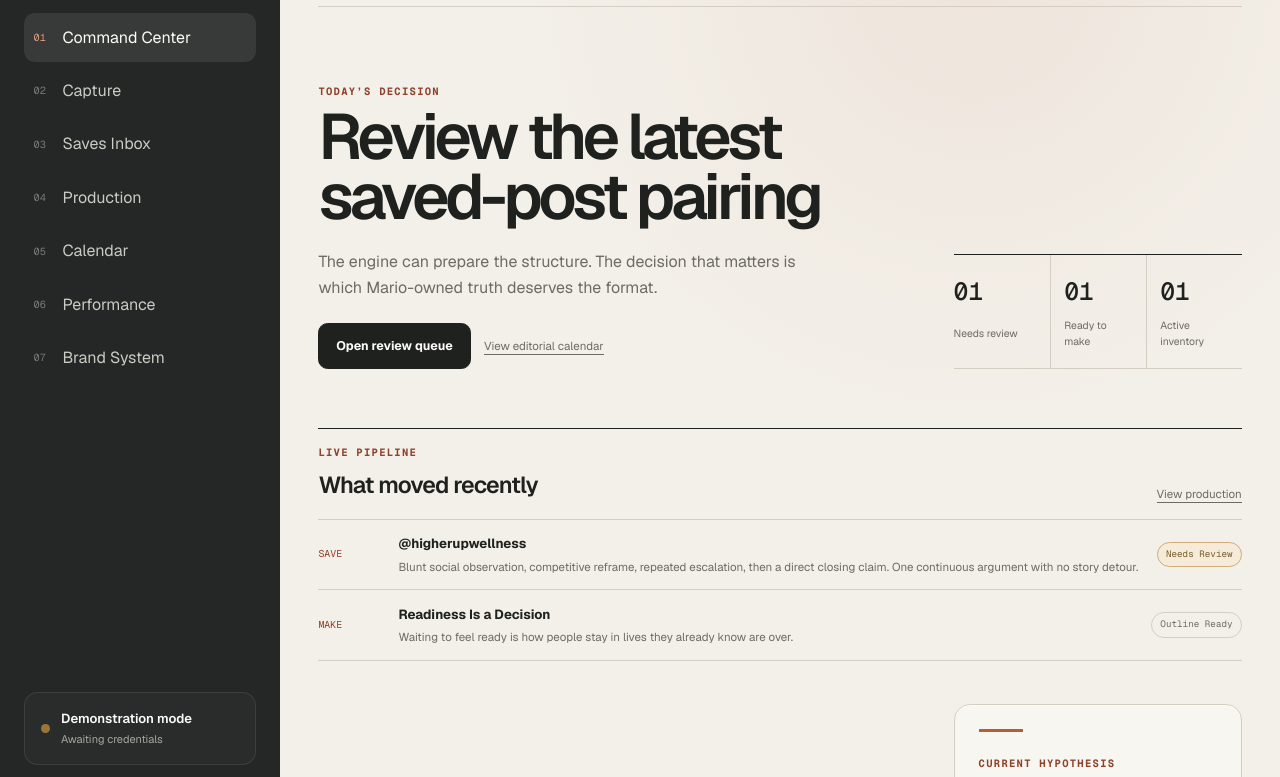
Scenario: Production package instructions › uses writing stages and a written draft for Written Post
Click the button "04 Production" at (140, 198), box [24, 173, 256, 222]
(page scrolled)
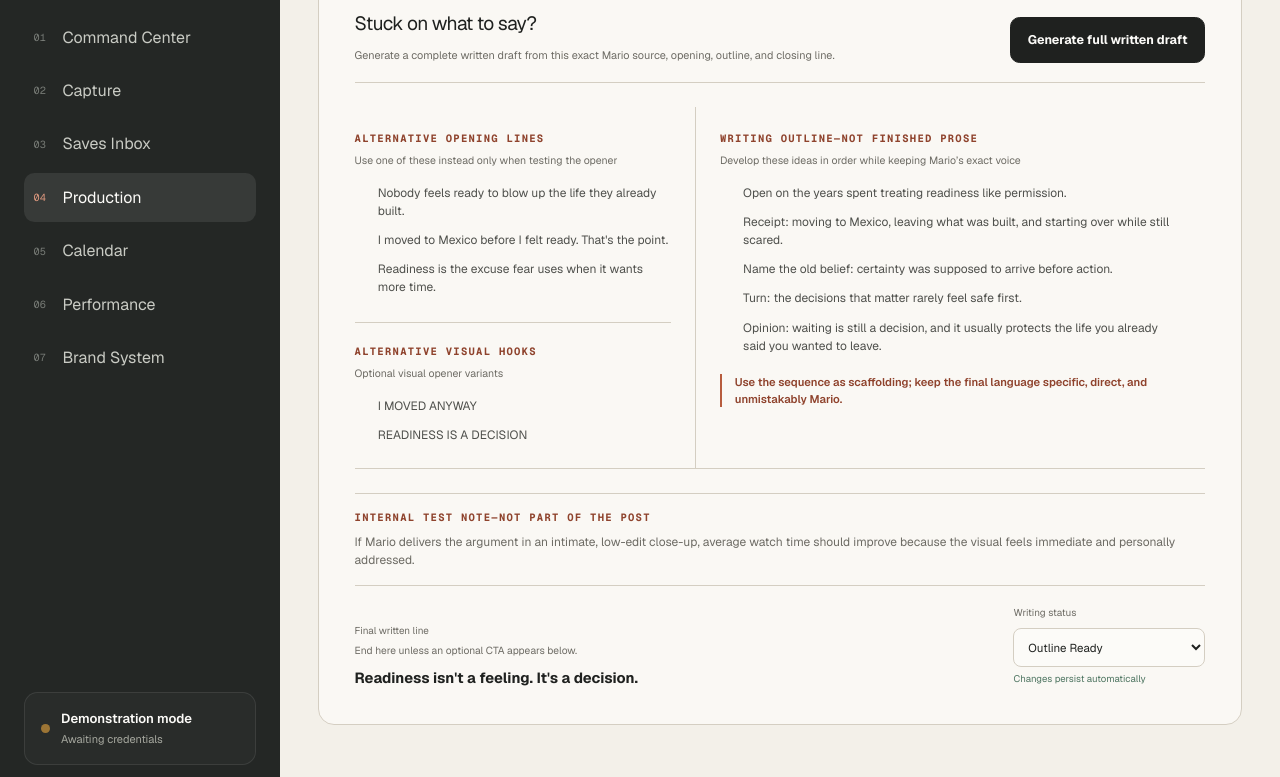
Check: the button "Generate full written draft" is shown, box [1010, 17, 1206, 63]
Check: the text "Internal test note—not part of the post" is shown, box [355, 510, 651, 524]
